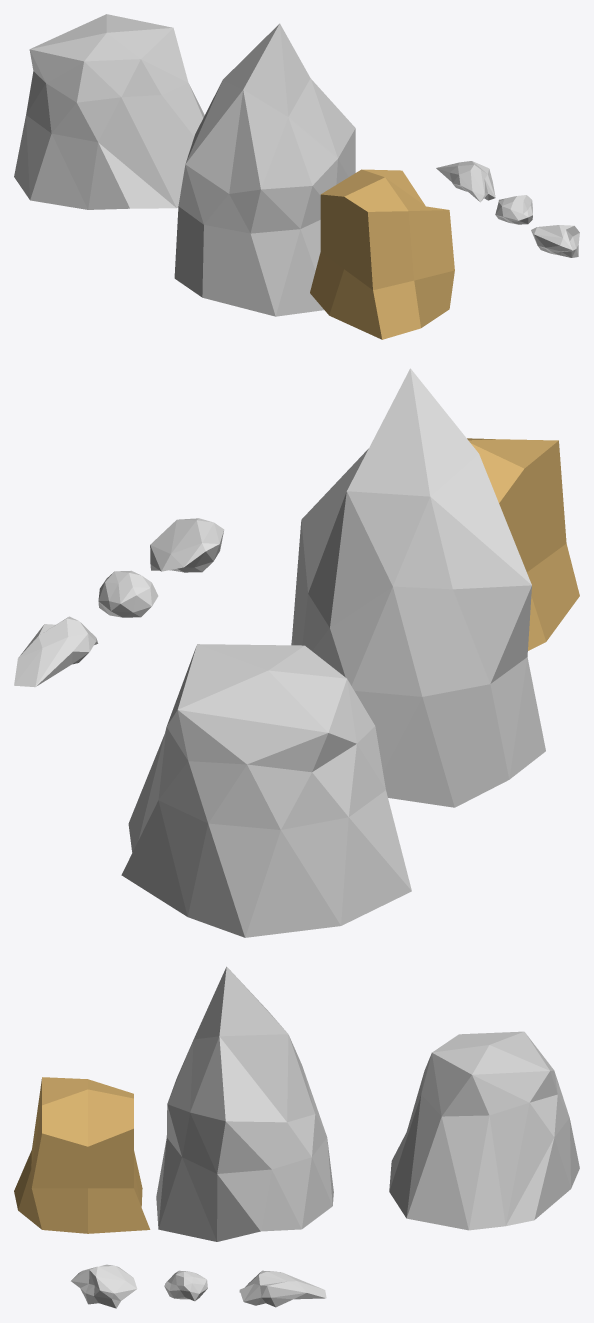
Rendered from rocas.fbx.
3 renders of one model, top to bottom at view 1: azimuth 30°, elevation 25°; view 2: azimuth 150°, elevation 25°; view 3: azimuth 270°, elevation 25°, orthographic. The views are drawn at different scales.
Parts seen in each view (by area): view 1: Esfera geodésica, Esfera geodésica.001, Cube, Esfera geodésica.004, Esfera geodésica.002, Esfera geodésica.003; view 2: Esfera geodésica, Esfera geodésica.001, Cube, Esfera geodésica.004, Esfera geodésica.002, Esfera geodésica.003; view 3: Esfera geodésica, Esfera geodésica.001, Cube, Esfera geodésica.004, Esfera geodésica.002, Esfera geodésica.003.
Boxes of the visible parts, bbox=[...] form: Esfera geodésica: bbox=[174, 23, 355, 316]; Esfera geodésica.001: bbox=[14, 14, 204, 209]; Cube: bbox=[310, 169, 454, 339]; Esfera geodésica.004: bbox=[436, 161, 495, 202]; Esfera geodésica.002: bbox=[531, 225, 579, 257]; Esfera geodésica.003: bbox=[495, 195, 532, 224]; Esfera geodésica: bbox=[291, 368, 545, 807]; Esfera geodésica.001: bbox=[121, 644, 411, 937]; Cube: bbox=[467, 438, 579, 650]; Esfera geodésica.004: bbox=[14, 616, 98, 687]; Esfera geodésica.002: bbox=[150, 518, 224, 572]; Esfera geodésica.003: bbox=[98, 570, 158, 617]; Esfera geodésica: bbox=[156, 966, 333, 1241]; Esfera geodésica.001: bbox=[389, 1031, 579, 1230]; Cube: bbox=[14, 1077, 150, 1233]; Esfera geodésica.004: bbox=[239, 1270, 326, 1307]; Esfera geodésica.002: bbox=[71, 1264, 137, 1308]; Esfera geodésica.003: bbox=[164, 1270, 207, 1301].
Size of the model in its own units: 506 by 353 by 706.
